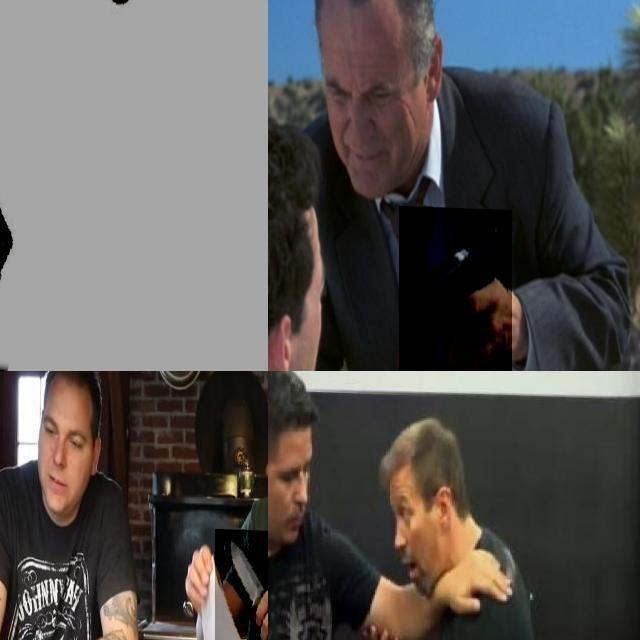-: (215, 525, 268, 640)
gun-knife-thesis - v11 Yolov5 augmented: (0, 0, 268, 371), (399, 203, 511, 371)
